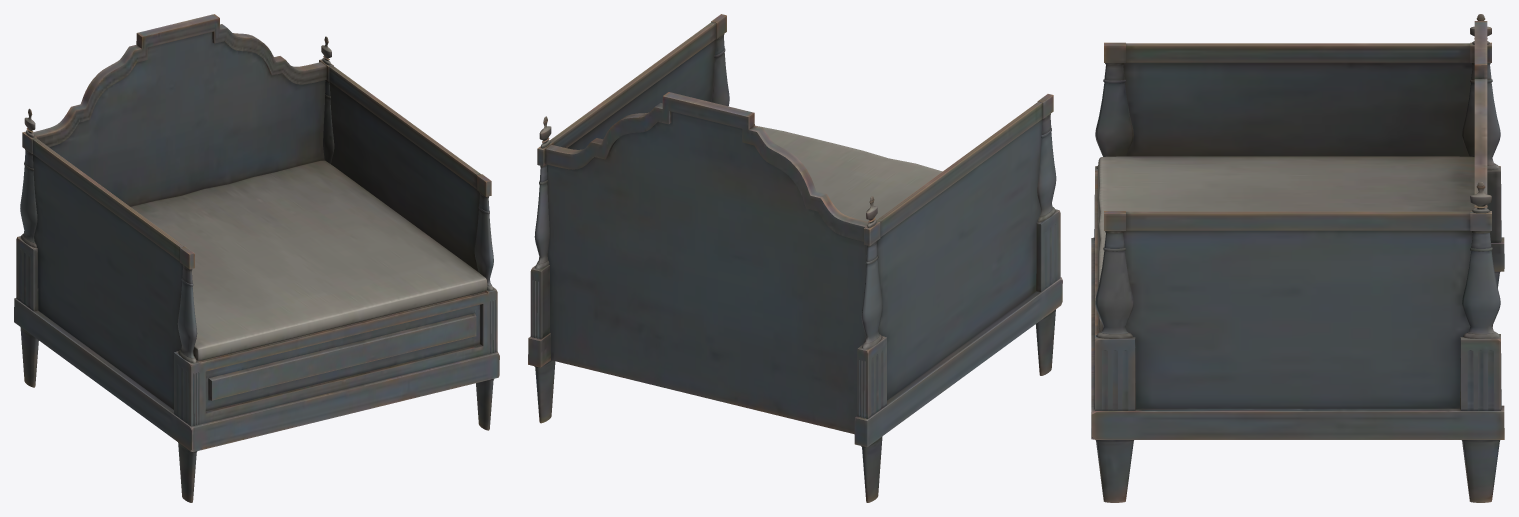
Rendered from ph-painted-wooden-sofa.glb.
3 renders of one model, left to right at view 1: azimuth 30°, elevation 25°; view 2: azimuth 150°, elevation 25°; view 3: azimuth 270°, elevation 25°, orthographic. The views are drawn at different scales.
Parts seen in each view (by area): view 1: painted_wooden_sofa; view 2: painted_wooden_sofa; view 3: painted_wooden_sofa.
Part boxes in pixels (x1,y1,x2,y2): painted_wooden_sofa: (14, 14, 499, 502); painted_wooden_sofa: (528, 14, 1062, 502); painted_wooden_sofa: (1091, 14, 1504, 502).
Size of the model in its own units: 1 by 1 by 1.
1 material, 1 textured.
